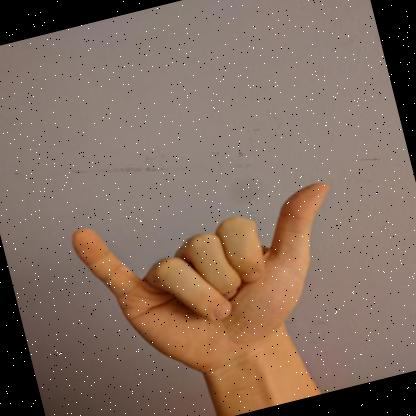Y: (72, 182, 330, 373)
